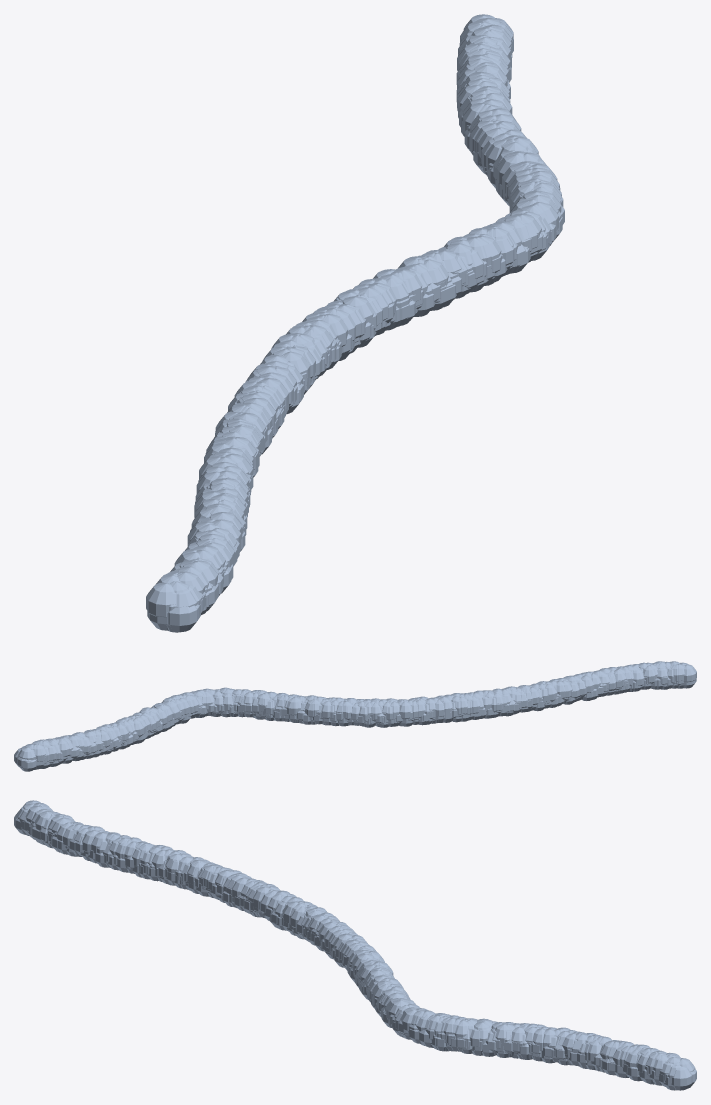
Rendered from ori_pointcloud.glb.
The picture shows the model from 3 angles, top to bottom: view 1: azimuth 30°, elevation 25°; view 2: azimuth 150°, elevation 25°; view 3: azimuth 270°, elevation 25°; orthographic projection. The views are drawn at different scales.
Visible parts, largest first — view 1: world; view 2: world; view 3: world.
Part boxes in pixels (x1,y1,x2,y2): world: [146, 14, 564, 632]; world: [14, 661, 696, 771]; world: [14, 800, 696, 1090].
Size of the model in its own units: 0.9472 by 0.0552 by 1.
